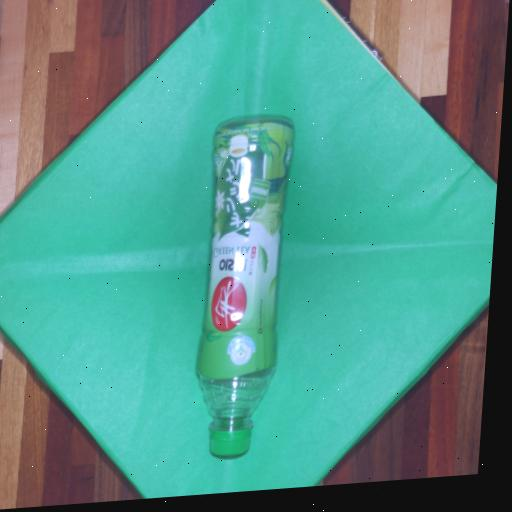bottle: (190, 116, 293, 462)
